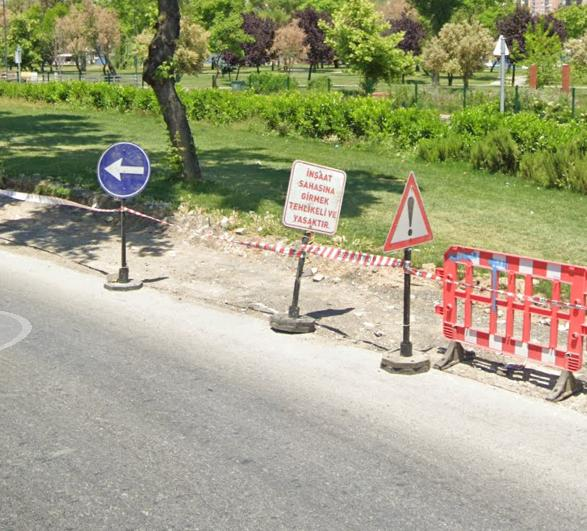turnleft: (98, 144, 149, 195)
